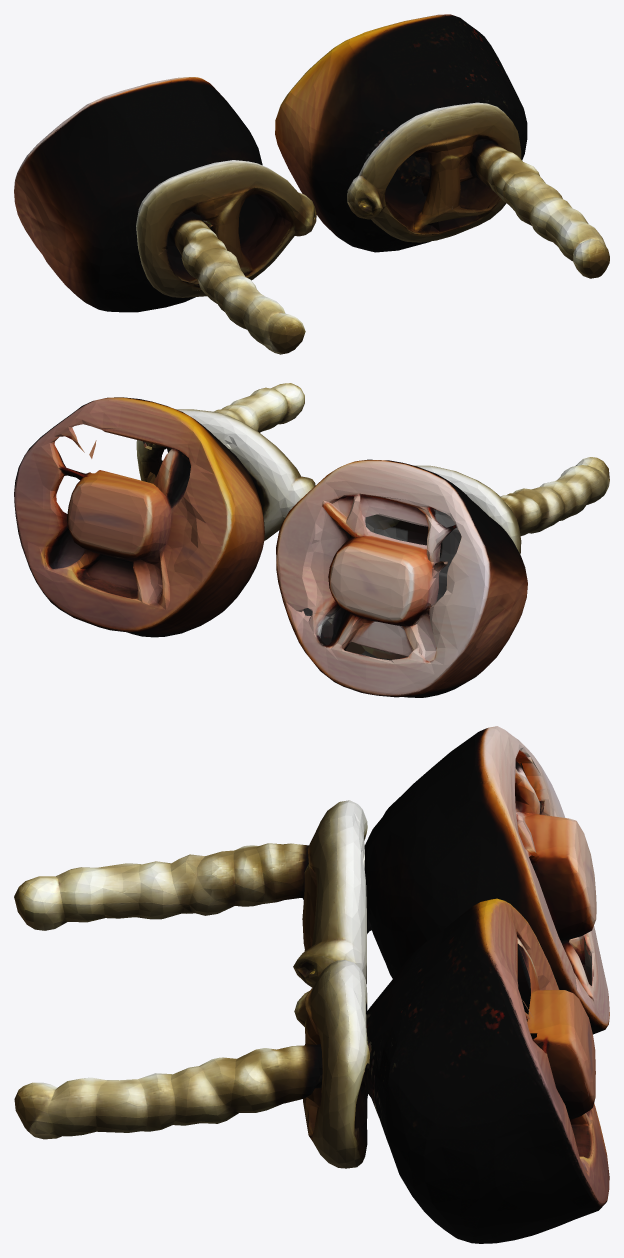
The model's file is wooden-cufflinks-futuristic.jpeg.glb.
3 views of the same model, one above another, from view 1: azimuth 30°, elevation 25°; view 2: azimuth 150°, elevation 25°; view 3: azimuth 270°, elevation 25° (orthographic). The views are drawn at different scales.
Parts seen in each view (by area): view 1: world; view 2: world; view 3: world.
Part boxes in pixels (x1,y1,x2,y2): world: (14, 14, 609, 354); world: (14, 383, 609, 697); world: (14, 726, 609, 1243).
Bounding box in the file's own units: 0.9998 × 0.4428 × 0.7967.
Materials: 1 (1 with a texture image).
